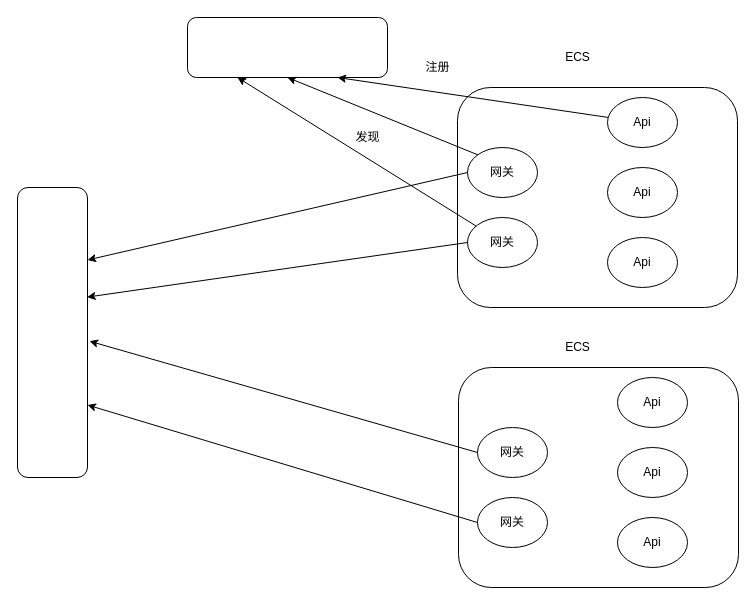
Image size: 756x605. Some labels were removed from this diagram. Here are the shapes that lost their labels. From the top down, the centre of each, then its label:
At (287,47): "Nacos".
At (52,332): "阿里云ALB 网关域名 Nginx集群".
